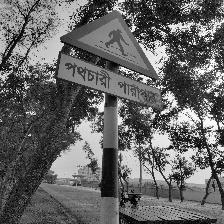Pedestrian-crossing: (53, 8, 165, 111)
